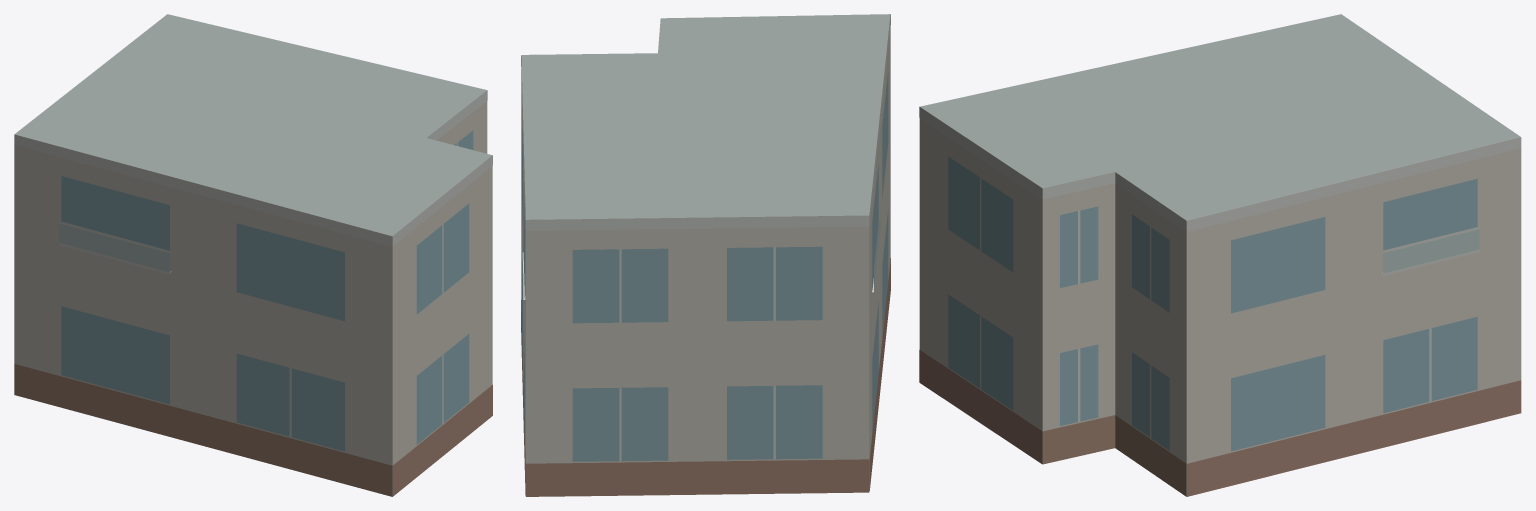
Rendered from survey-upis-32595082.glb.
The picture shows the model from 3 angles, left to right: view 1: azimuth 30°, elevation 25°; view 2: azimuth 150°, elevation 25°; view 3: azimuth 270°, elevation 25°; orthographic projection. The views are drawn at different scales.
Parts seen in each view (by area): view 1: survey-upis-32595082.tmp; view 2: survey-upis-32595082.tmp; view 3: survey-upis-32595082.tmp.
Boxes of the visible parts, x1,y1,x2,y2 form: survey-upis-32595082.tmp: (14,14,492,496); survey-upis-32595082.tmp: (521,14,890,496); survey-upis-32595082.tmp: (919,14,1521,496).
Size of the model in its own units: 9.82 by 6.1 by 12.06.
